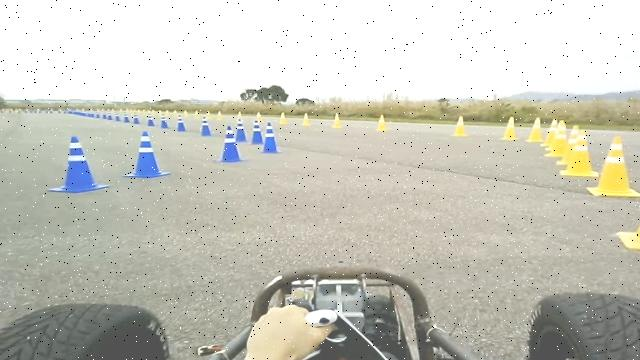blue cone: (47, 135, 110, 193), (122, 130, 170, 178), (212, 125, 247, 163), (260, 121, 282, 154), (250, 120, 263, 144), (235, 119, 247, 142), (200, 116, 212, 137), (176, 114, 187, 132), (160, 114, 169, 129), (146, 114, 155, 126)
yellow cone: (586, 136, 640, 198), (560, 129, 598, 177), (615, 197, 640, 250), (544, 120, 568, 157), (558, 125, 580, 165), (499, 116, 519, 141), (525, 116, 544, 142), (542, 118, 558, 147), (451, 115, 468, 137), (376, 114, 387, 131), (331, 113, 342, 128), (301, 112, 310, 126), (278, 112, 288, 124), (255, 112, 264, 124), (216, 110, 223, 120), (235, 111, 242, 121)
